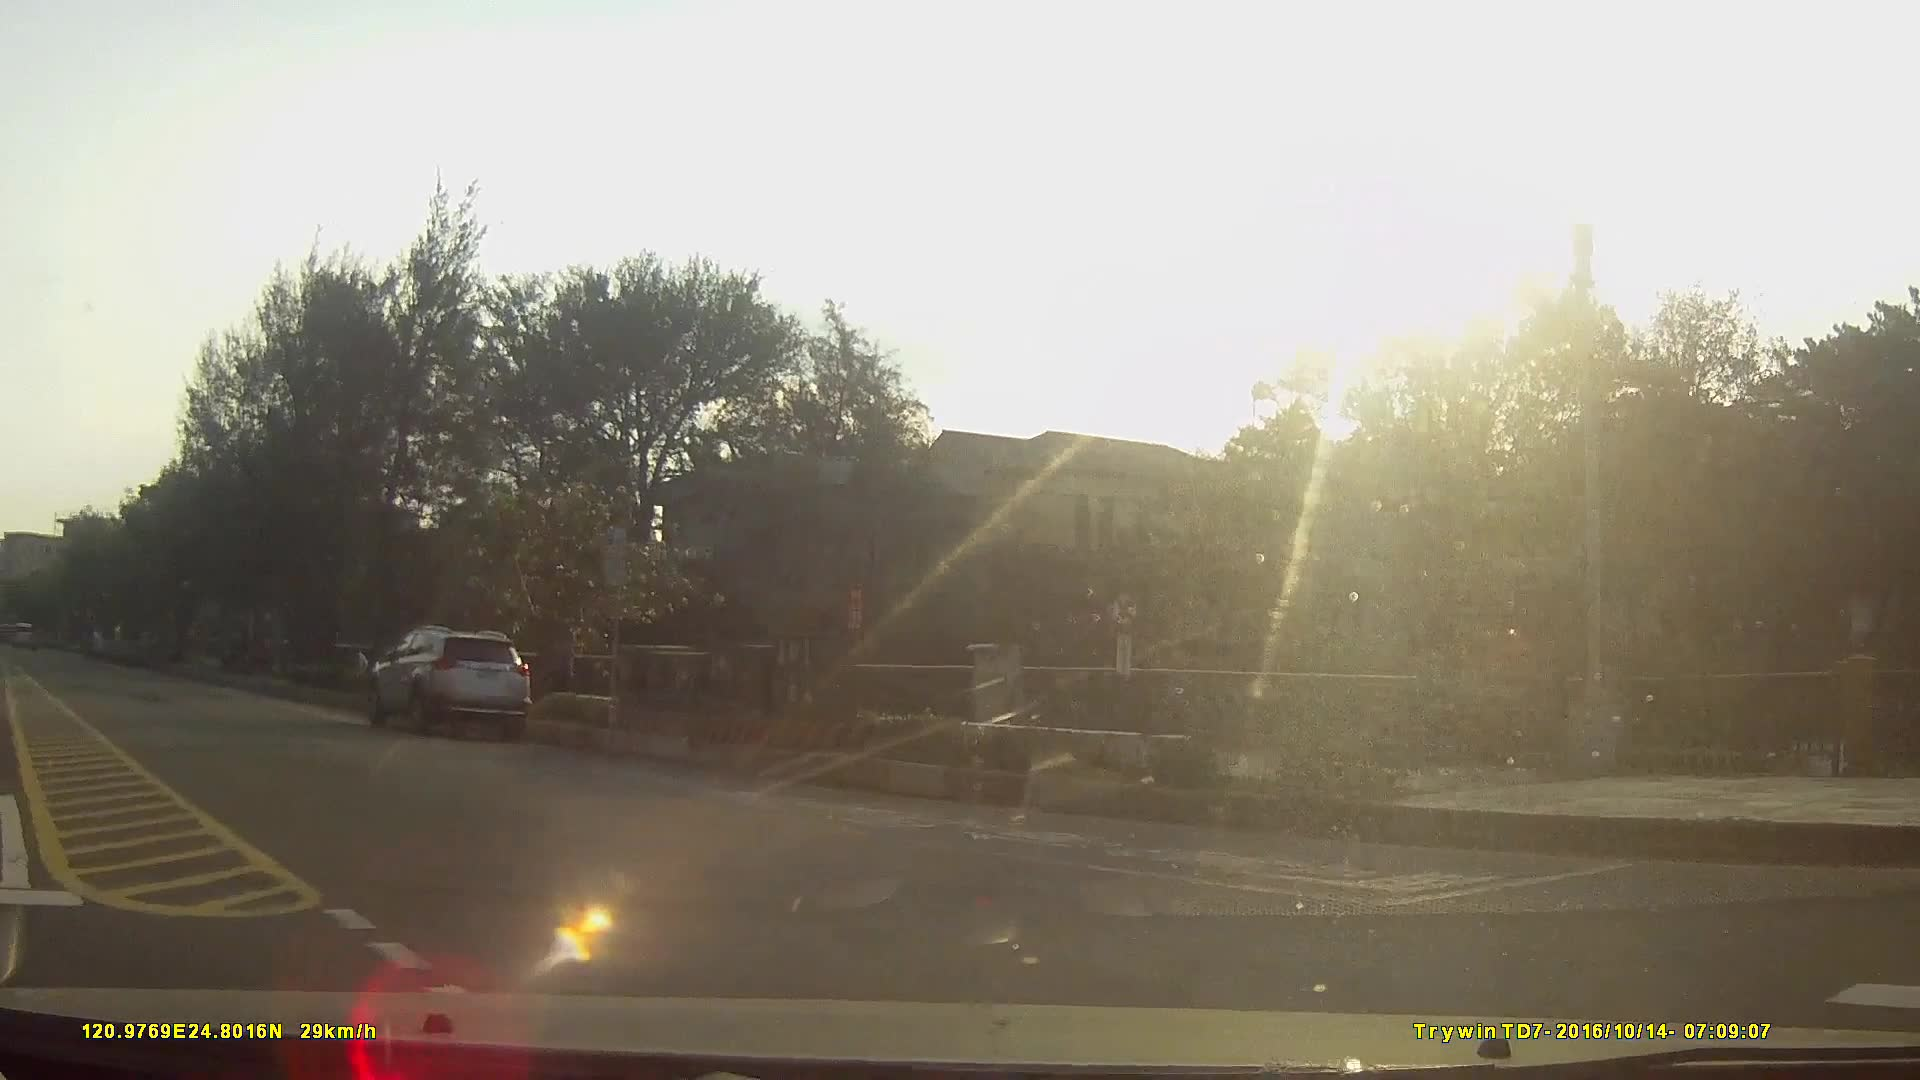vehicle: (367, 621, 529, 736)
